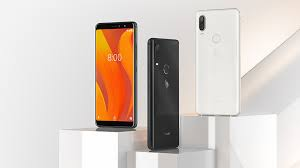vsmart: (91, 16, 139, 135), (144, 33, 183, 154)
